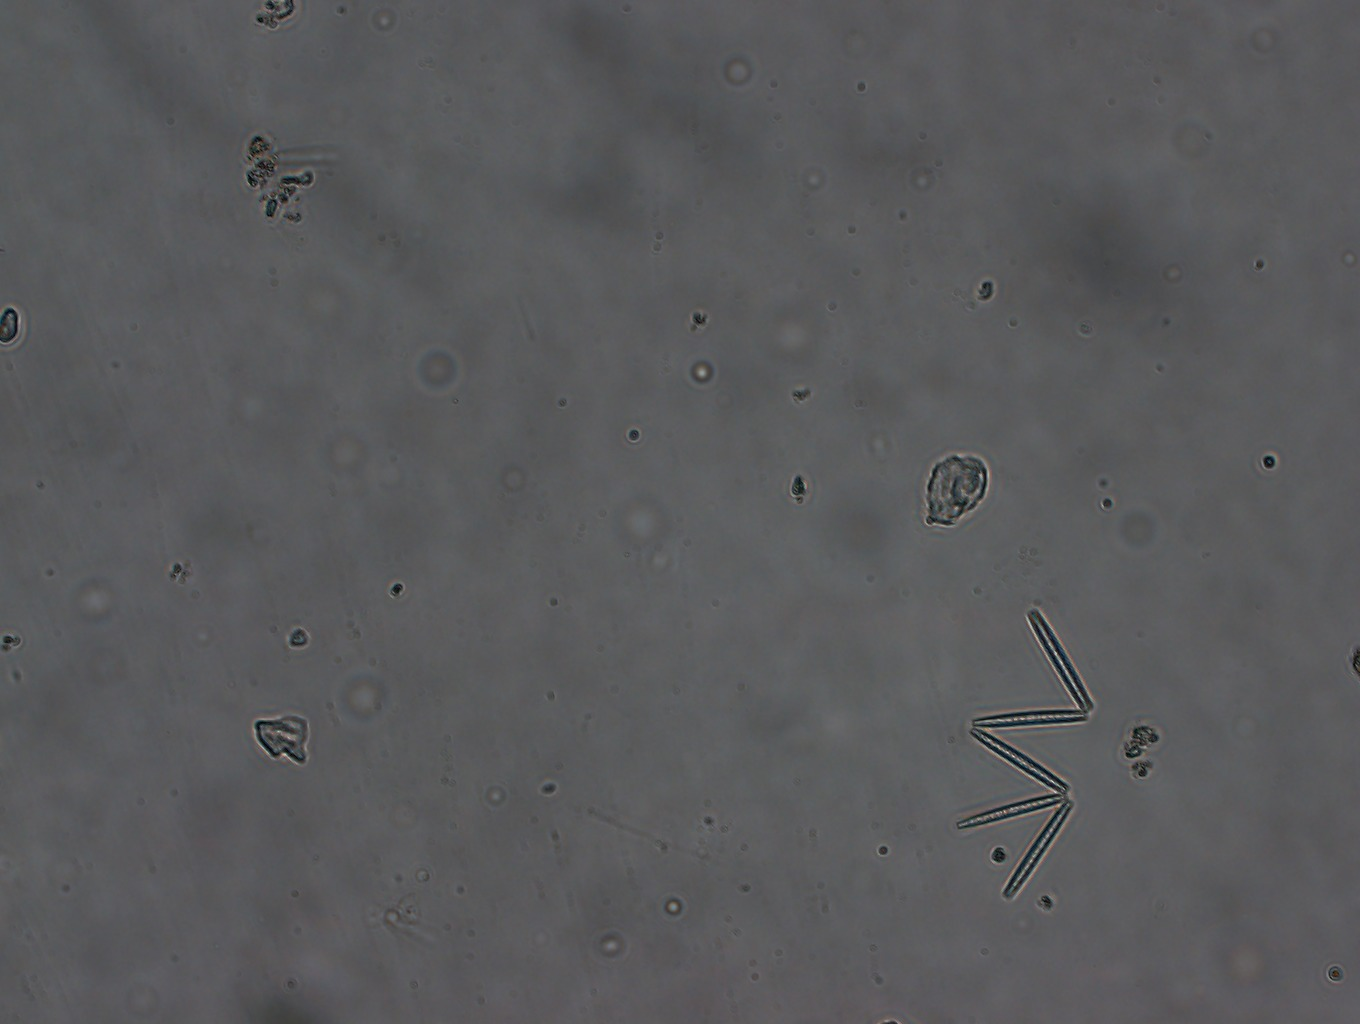thalassionema nitzschioides: (942, 600, 1098, 902)
